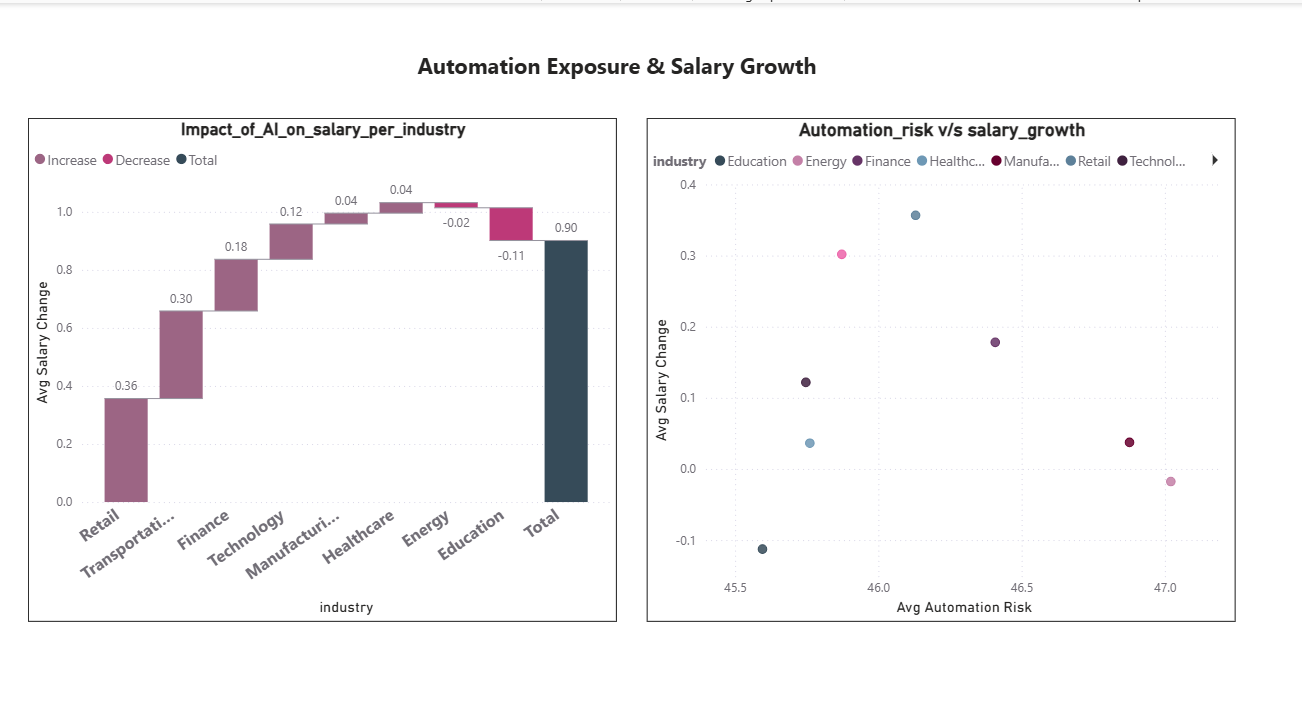

What the dashboard file says about the page in this screenshot:
{"tool":"powerbi","page":{"name":"Salary_growth","canvas":[1280,720],"ordinal":2},"visuals":[{"type":"waterfallChart","title":"Impact_of_AI_on_salary_per_industry","fields":{"Category":["ai_job_replacement_2020_2026_v2.industry"],"Y":["ai_job_replacement_2020_2026_v2.Avg Salary Change"]},"box":[34.3,112.5,576.3,492.6],"z":0},{"type":"scatterChart","title":"Automation_risk v/s salary_growth","fields":{"X":["ai_job_replacement_2020_2026_v2.Avg Automation Risk"],"Y":["ai_job_replacement_2020_2026_v2.Avg Salary Change"],"Category":["ai_job_replacement_2020_2026_v2.industry"],"Series":["ai_job_replacement_2020_2026_v2.industry"]},"box":[639.5,112.5,576.3,492.6],"z":1000},{"type":"textbox","box":[142.7,41.2,934.5,56.3],"z":2000}]}

Visuals, with their boxes in screenshot pixels (x1, y1, x2, y2), scaled from the page's 1280x720 canvas onto the 1302x717 screenshot:
"Impact_of_AI_on_salary_per_industry" waterfallChart: BBox(35, 112, 621, 603)
"Automation_risk v/s salary_growth" scatterChart: BBox(650, 112, 1237, 603)
textbox: BBox(145, 41, 1096, 97)
